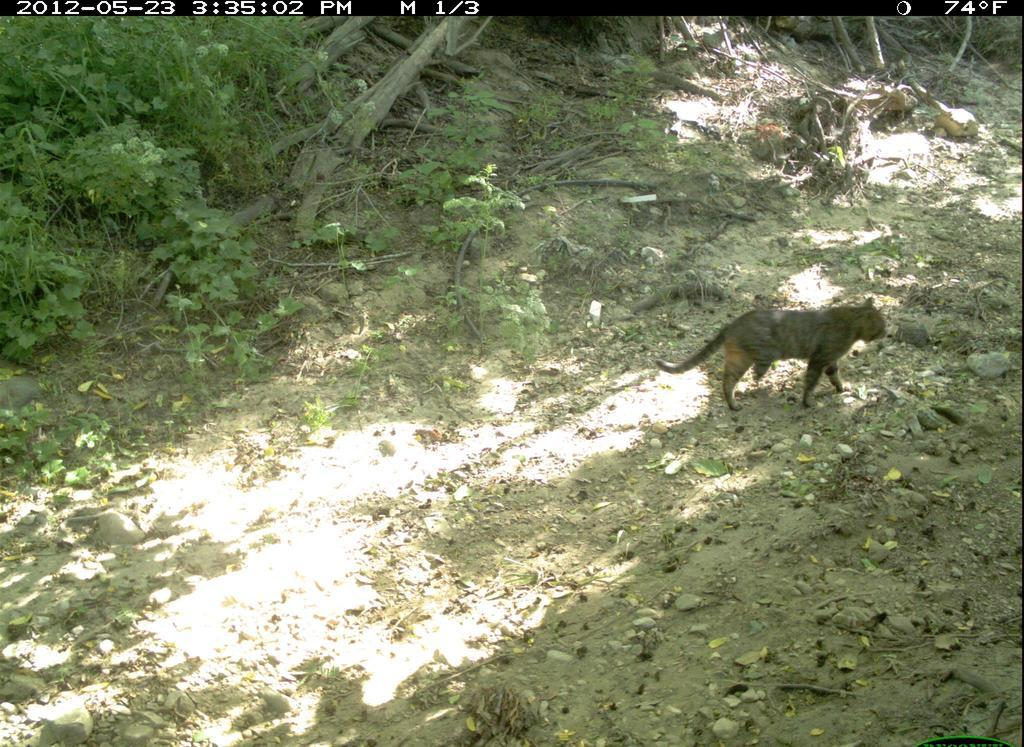cat: (652, 283, 930, 450)
